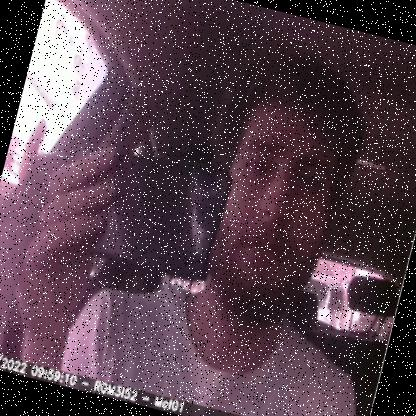phone: (37, 123, 243, 294)
